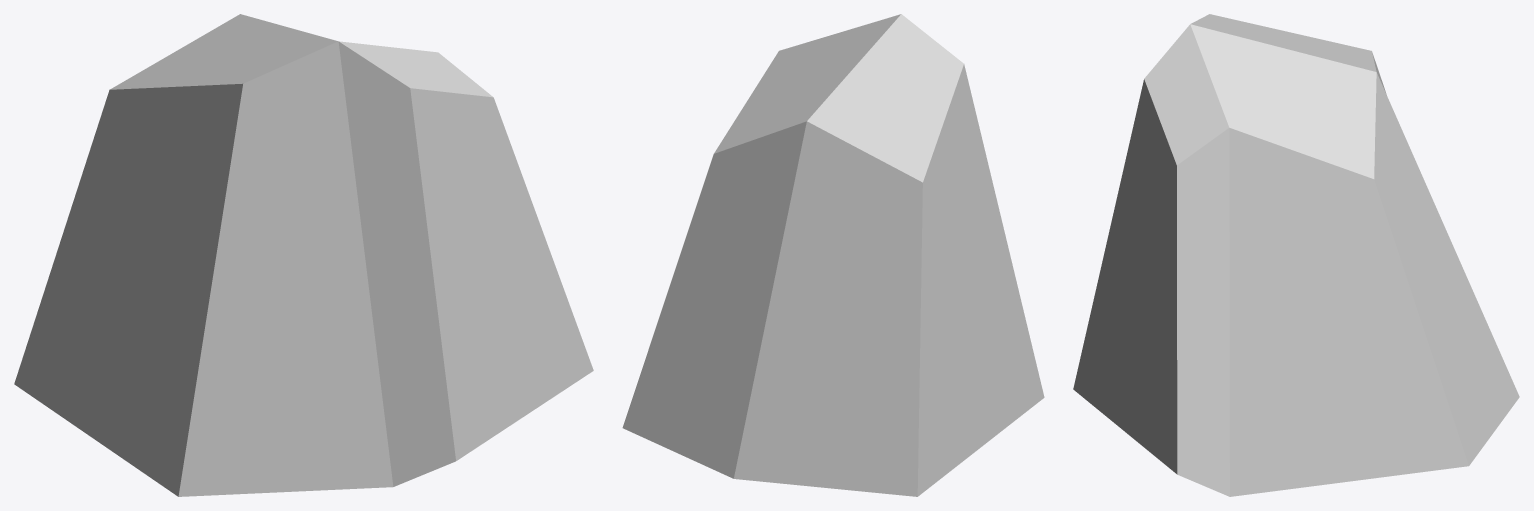
File: rock-001.gltf
The picture shows the model from 3 angles, left to right: view 1: azimuth 30°, elevation 25°; view 2: azimuth 150°, elevation 25°; view 3: azimuth 270°, elevation 25°; orthographic projection. The views are drawn at different scales.
Visible parts, largest first — view 1: Rock.001; view 2: Rock.001; view 3: Rock.001.
Boxes of the visible parts, left/top/right/bottom form: Rock.001: left=14, top=14, right=593, bottom=496; Rock.001: left=622, top=14, right=1044, bottom=496; Rock.001: left=1073, top=14, right=1519, bottom=496.
Size of the model in its own units: 1.51 by 1.42 by 1.56.
Materials: 1 (1 with a texture image).
